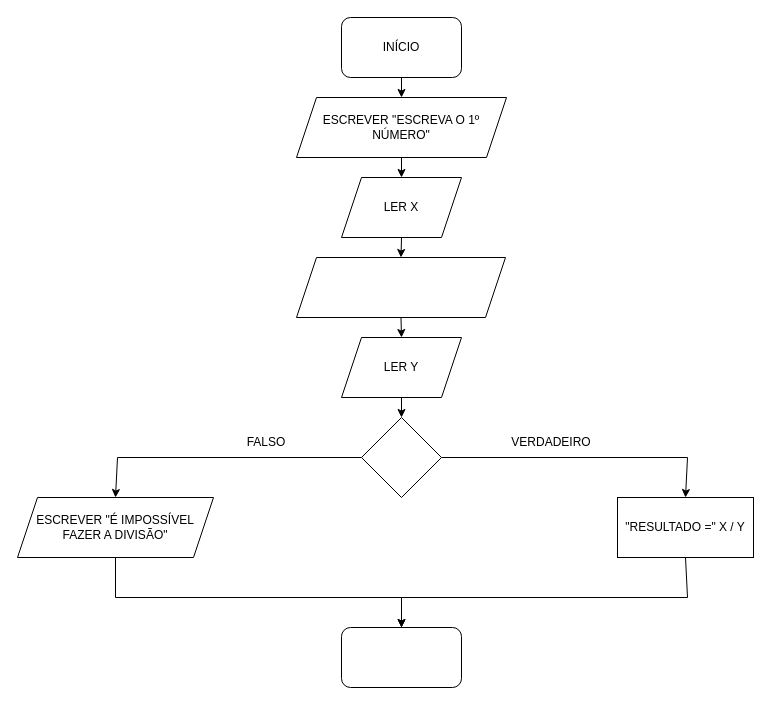
Image size: 771x705. Some labels were removed from this diagram. The centre of each missing label's shape, as x and y in pixels:
ESCREVER "ESCREVA O 2º NÚMERO": (401,287)
FIM: (401,657)
Y > 0: (401,457)
